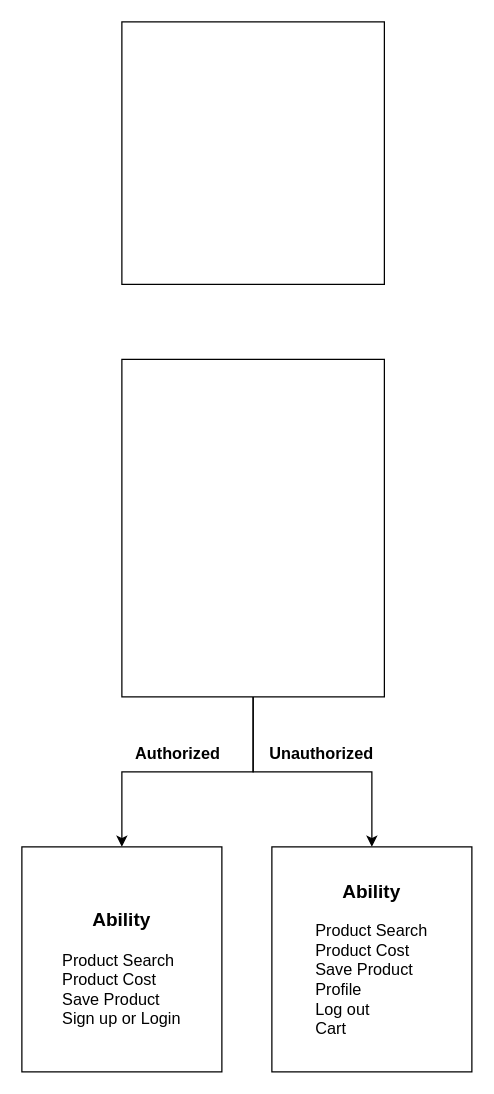
Image size: 494x1094. Some labels were removed from this diagram. The box of each missing label's shape, as (x1, y1, x2, y2) in pixels:
Product ID Cost Name Category Image Description: (121, 21, 384, 284)
User ID Username Password Email: (121, 358, 384, 697)
